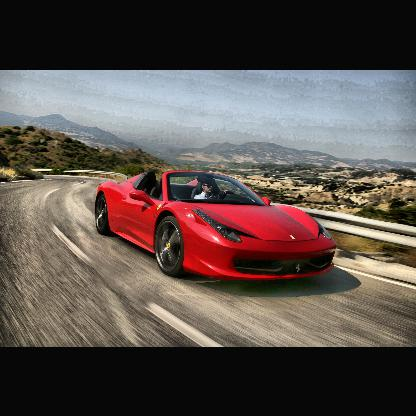Ferrari 458 Italia Convertible 2012: (94, 165, 338, 293)
